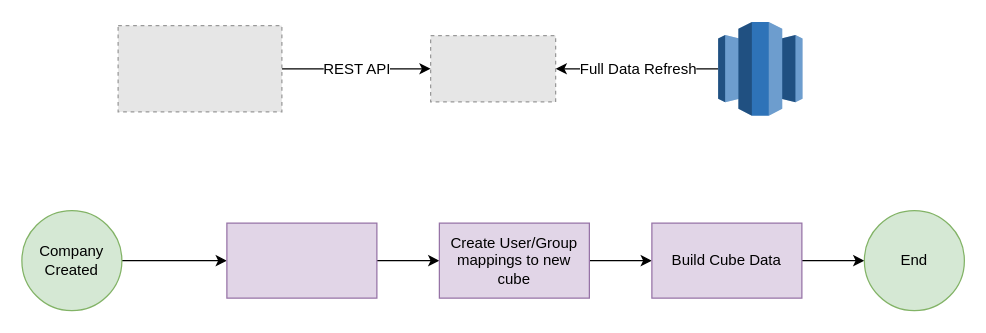
Image size: 986x333. Some labels were removed from this diagram. Grey dashed boxes stand in for pictures. The centre of each missing label's shape, as x and y in pixels:
Copy Cube Template to Company: point (301, 260)
Data Warehouse: point (759, 68)
